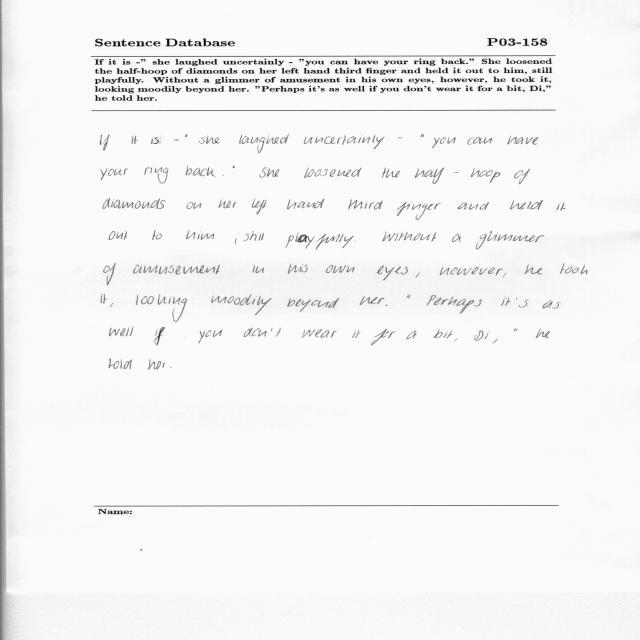word: (415, 167, 500, 184), (136, 294, 187, 322), (211, 295, 272, 316), (476, 231, 545, 249), (286, 233, 354, 250), (304, 135, 385, 149), (427, 295, 482, 314), (133, 264, 220, 275), (239, 134, 289, 153), (397, 202, 442, 220), (287, 298, 339, 312), (103, 198, 166, 209), (304, 167, 362, 178), (383, 232, 437, 242), (440, 267, 503, 275), (376, 266, 408, 281), (287, 199, 325, 210), (145, 167, 169, 184), (371, 329, 396, 345), (348, 199, 383, 210), (244, 328, 281, 337), (186, 166, 216, 177), (510, 200, 543, 210), (101, 169, 128, 181), (302, 329, 337, 338), (199, 330, 223, 343), (560, 263, 588, 274), (186, 230, 214, 240), (507, 136, 538, 145), (432, 137, 456, 148), (104, 263, 116, 285), (457, 202, 489, 210), (109, 358, 132, 369), (514, 169, 530, 184), (252, 199, 267, 215), (326, 265, 355, 273), (259, 167, 280, 178), (360, 296, 385, 305), (110, 327, 134, 336), (243, 231, 264, 241), (154, 327, 165, 346), (468, 137, 493, 145), (288, 264, 308, 274), (433, 329, 453, 339), (198, 135, 220, 144), (148, 359, 165, 370), (382, 168, 400, 178), (525, 265, 543, 275), (474, 330, 490, 341), (219, 200, 237, 209), (109, 231, 127, 240), (535, 329, 550, 339), (101, 135, 110, 151), (542, 301, 560, 309), (516, 298, 529, 308), (187, 202, 202, 209), (152, 230, 162, 240), (406, 331, 417, 340), (556, 202, 566, 211), (501, 297, 511, 306), (252, 266, 264, 273), (452, 234, 461, 242), (151, 137, 161, 144), (352, 330, 360, 338), (102, 294, 108, 304), (131, 136, 138, 144), (492, 339, 498, 343), (416, 272, 420, 277), (502, 273, 506, 278), (407, 295, 411, 299), (514, 328, 518, 332), (235, 238, 237, 244), (110, 303, 113, 307), (185, 134, 188, 137), (421, 134, 424, 137), (454, 339, 457, 342), (174, 140, 179, 141), (398, 138, 402, 139), (233, 166, 235, 168), (386, 304, 388, 306), (354, 241, 356, 242), (223, 175, 224, 176), (170, 367, 171, 368)
